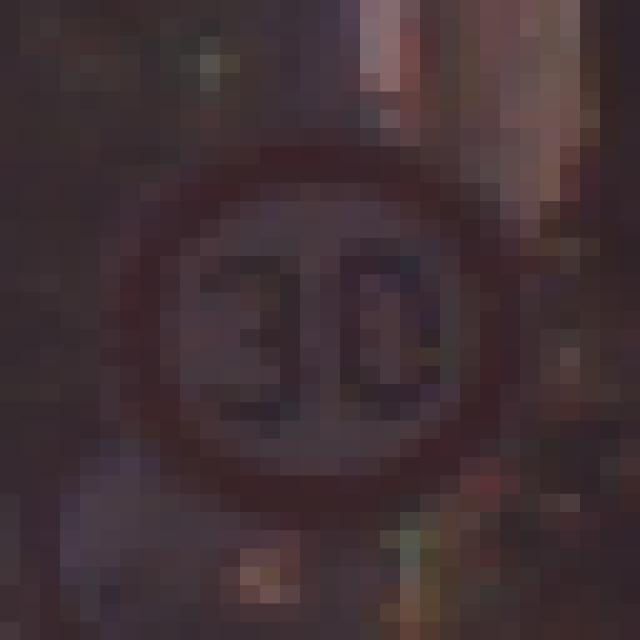Speed Limit -30-: (90, 100, 530, 540)
